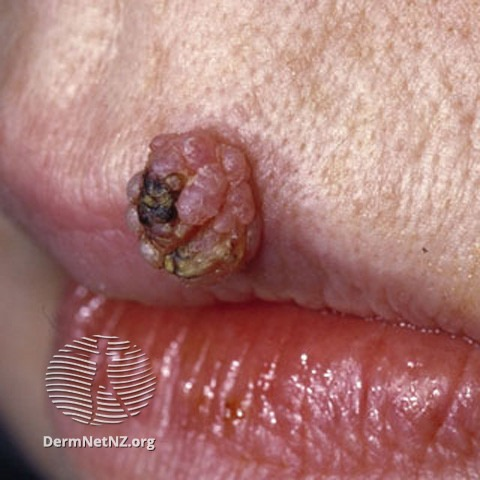Warts: (114, 121, 289, 291)
